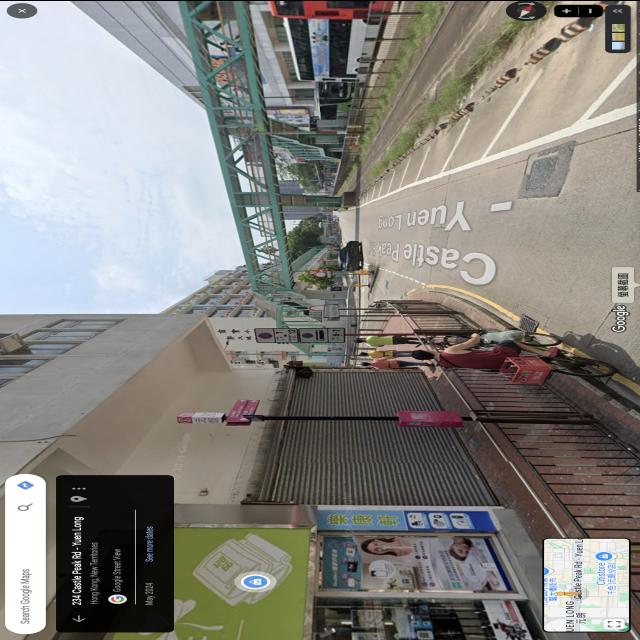Order-Sign: (300, 327, 344, 341), (258, 328, 296, 342), (310, 304, 324, 310), (317, 272, 325, 276)
Street-Direction-Sign: (324, 304, 338, 316)
Warning-Sign: (310, 270, 316, 274)
